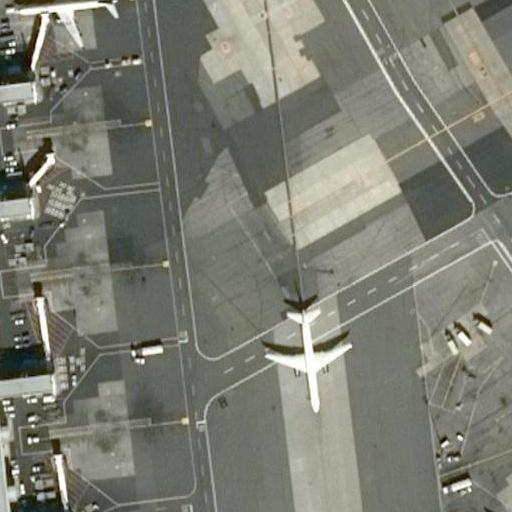Aircraft: (263, 299, 351, 408), (5, 0, 123, 52), (449, 506, 512, 512)
